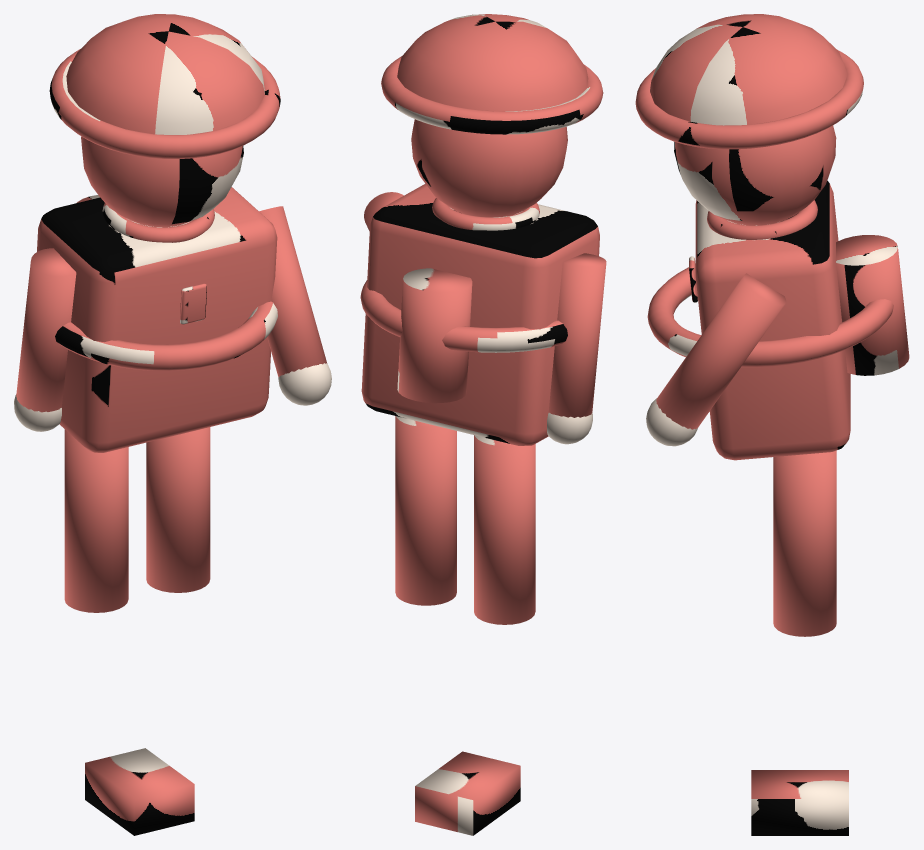
Rendered from leonidas.glb.
3 views of the same model, side by side, from view 1: azimuth 30°, elevation 25°; view 2: azimuth 150°, elevation 25°; view 3: azimuth 270°, elevation 25° (orthographic). The views are drawn at different scales.
Visible parts, largest first — view 1: torso, helmet, leg1, leg-1, head, arm-1, arm1, brim, stripe, collar, badge; view 2: torso, leg1, helmet, leg-1, head, tank, arm-1, brim, stripe, collar, arm1; view 3: torso, leg1, helmet, head, arm1, tank, brim, stripe, collar.
Part boxes in pixels (bbox=[...]): torso: bbox=[37, 187, 277, 452]; helmet: bbox=[66, 14, 264, 134]; leg1: bbox=[85, 427, 210, 835]; leg-1: bbox=[64, 429, 128, 612]; head: bbox=[81, 136, 243, 227]; arm-1: bbox=[14, 248, 76, 431]; arm1: bbox=[259, 206, 331, 405]; brim: bbox=[49, 49, 280, 158]; stripe: bbox=[55, 301, 277, 370]; collar: bbox=[102, 203, 214, 242]; badge: bbox=[180, 283, 206, 324]; torso: bbox=[361, 183, 599, 445]; leg1: bbox=[395, 416, 520, 835]; helmet: bbox=[397, 14, 588, 111]; leg-1: bbox=[474, 435, 535, 624]; head: bbox=[411, 119, 567, 217]; tank: bbox=[397, 268, 472, 403]; arm-1: bbox=[547, 253, 606, 444]; brim: bbox=[381, 56, 603, 134]; stripe: bbox=[360, 280, 602, 352]; collar: bbox=[432, 198, 539, 230]; arm1: bbox=[364, 192, 403, 230]; torso: bbox=[695, 180, 850, 460]; leg1: bbox=[751, 450, 848, 835]; helmet: bbox=[650, 14, 847, 125]; head: bbox=[674, 125, 836, 225]; arm1: bbox=[646, 273, 786, 446]; tank: bbox=[836, 235, 909, 375]; brim: bbox=[635, 49, 863, 149]; stripe: bbox=[647, 267, 893, 367]; collar: bbox=[707, 200, 817, 239].
Size of the model in its own units: 0.702 by 2.15 by 0.673.
Materials: 1 (1 with a texture image).
